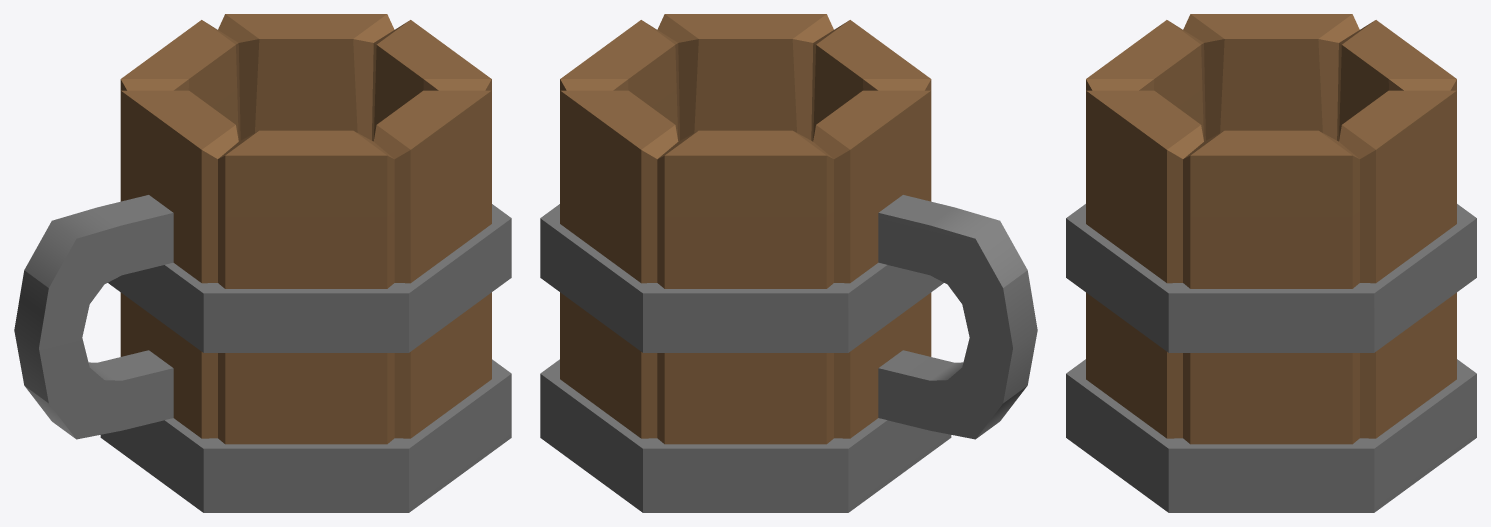
Rendered from Beerglass_B.fbx.
The picture shows the model from 3 angles, left to right: view 1: azimuth 30°, elevation 25°; view 2: azimuth 150°, elevation 25°; view 3: azimuth 270°, elevation 25°; orthographic projection.
Visible parts, largest first — view 1: Beerglass_B; view 2: Beerglass_B; view 3: Beerglass_B.
Part boxes in pixels (x1,y1,x2,y2): Beerglass_B: (14, 14, 511, 512); Beerglass_B: (540, 14, 1037, 512); Beerglass_B: (1066, 14, 1476, 512).
Size of the model in its own units: 24.73 by 19.23 by 20.29.
